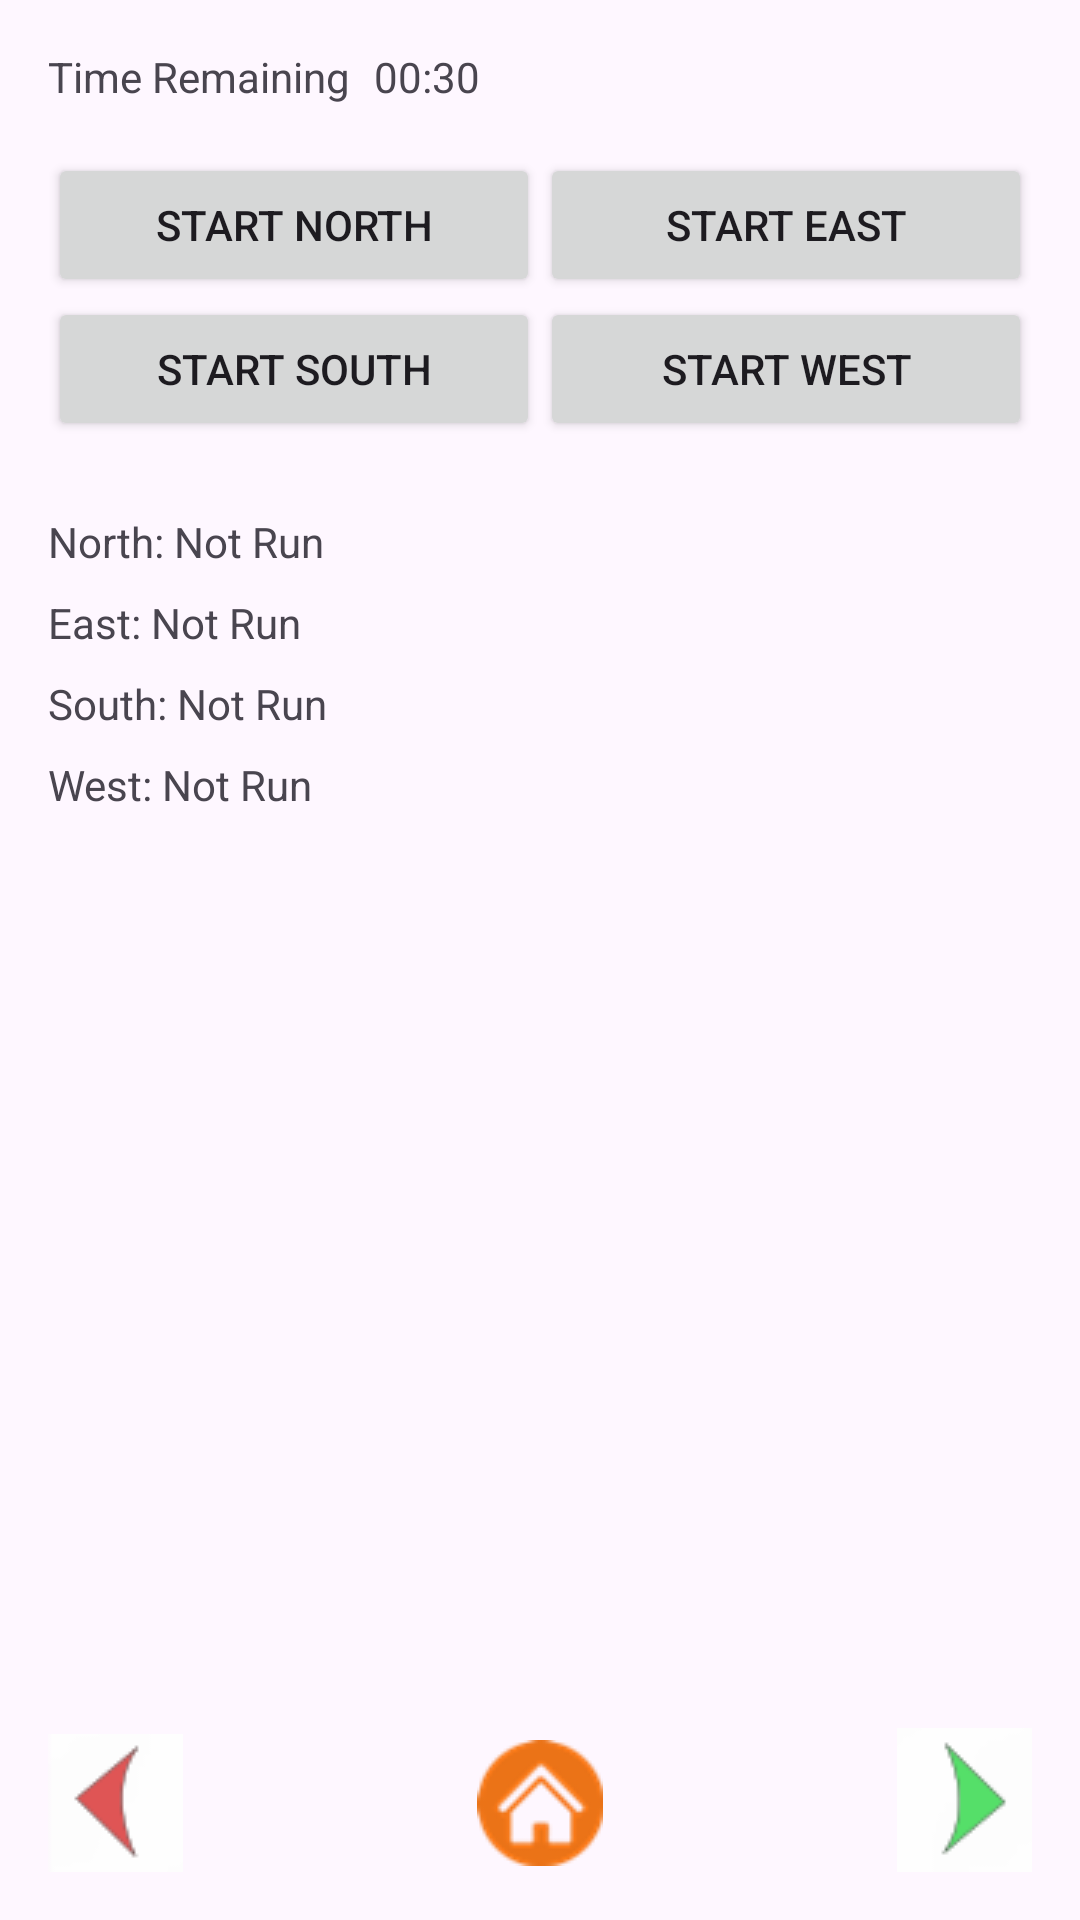

Locate icon controls on the screen. Image size 1080 x 1920, boxes as Rect(x1, y1, x2, y2).
Home: Rect(477, 1740, 603, 1866)
Left Nav: Rect(74, 1745, 139, 1857)
Right Nav: Rect(942, 1742, 1006, 1854)
